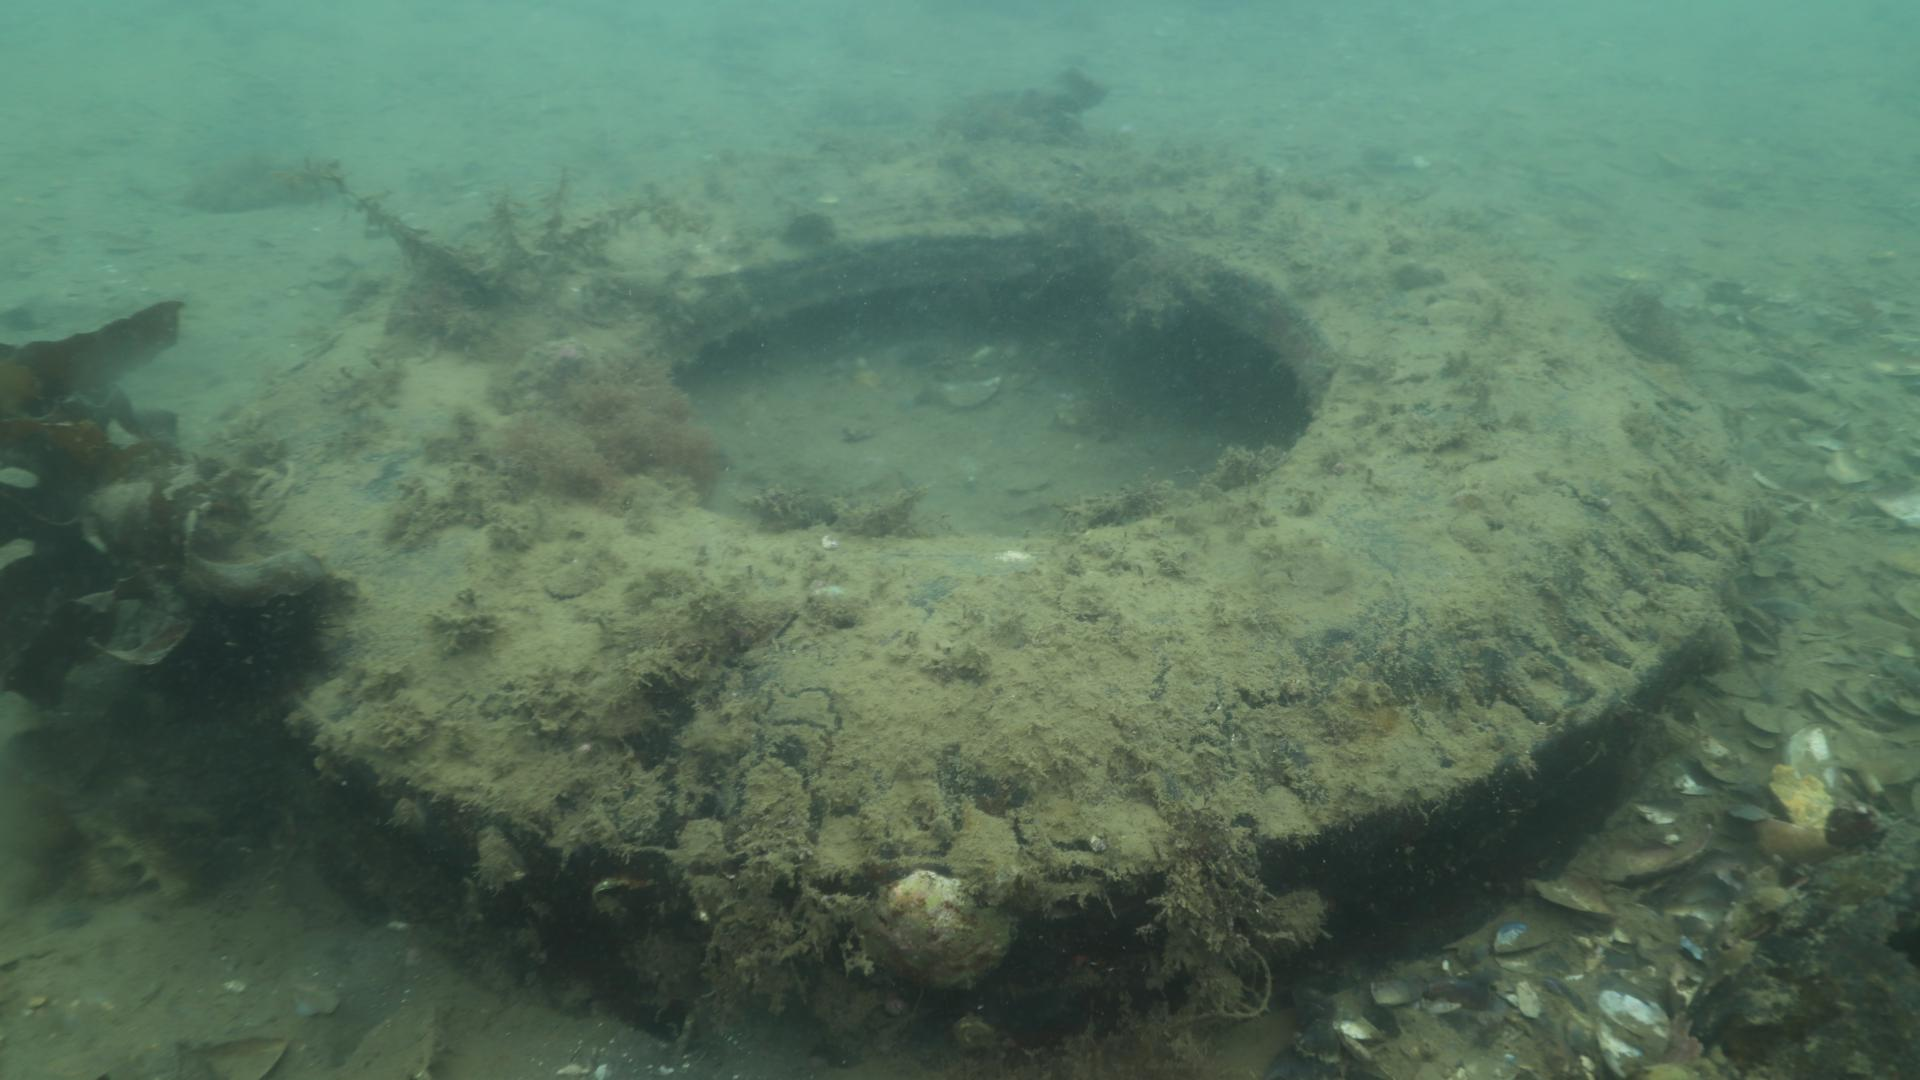tire: (224, 119, 1750, 1019)
